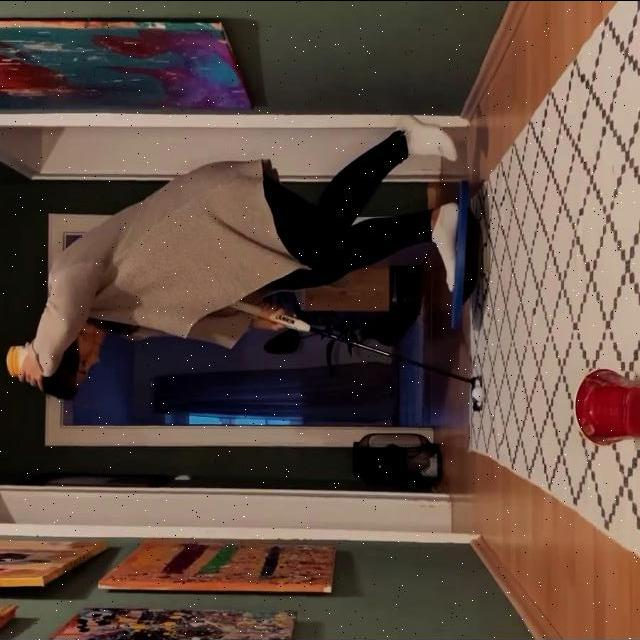ClubHandle: (229, 301, 483, 411)
ClubHead: (472, 375, 483, 411)
GolfBall: (473, 386, 485, 401)
